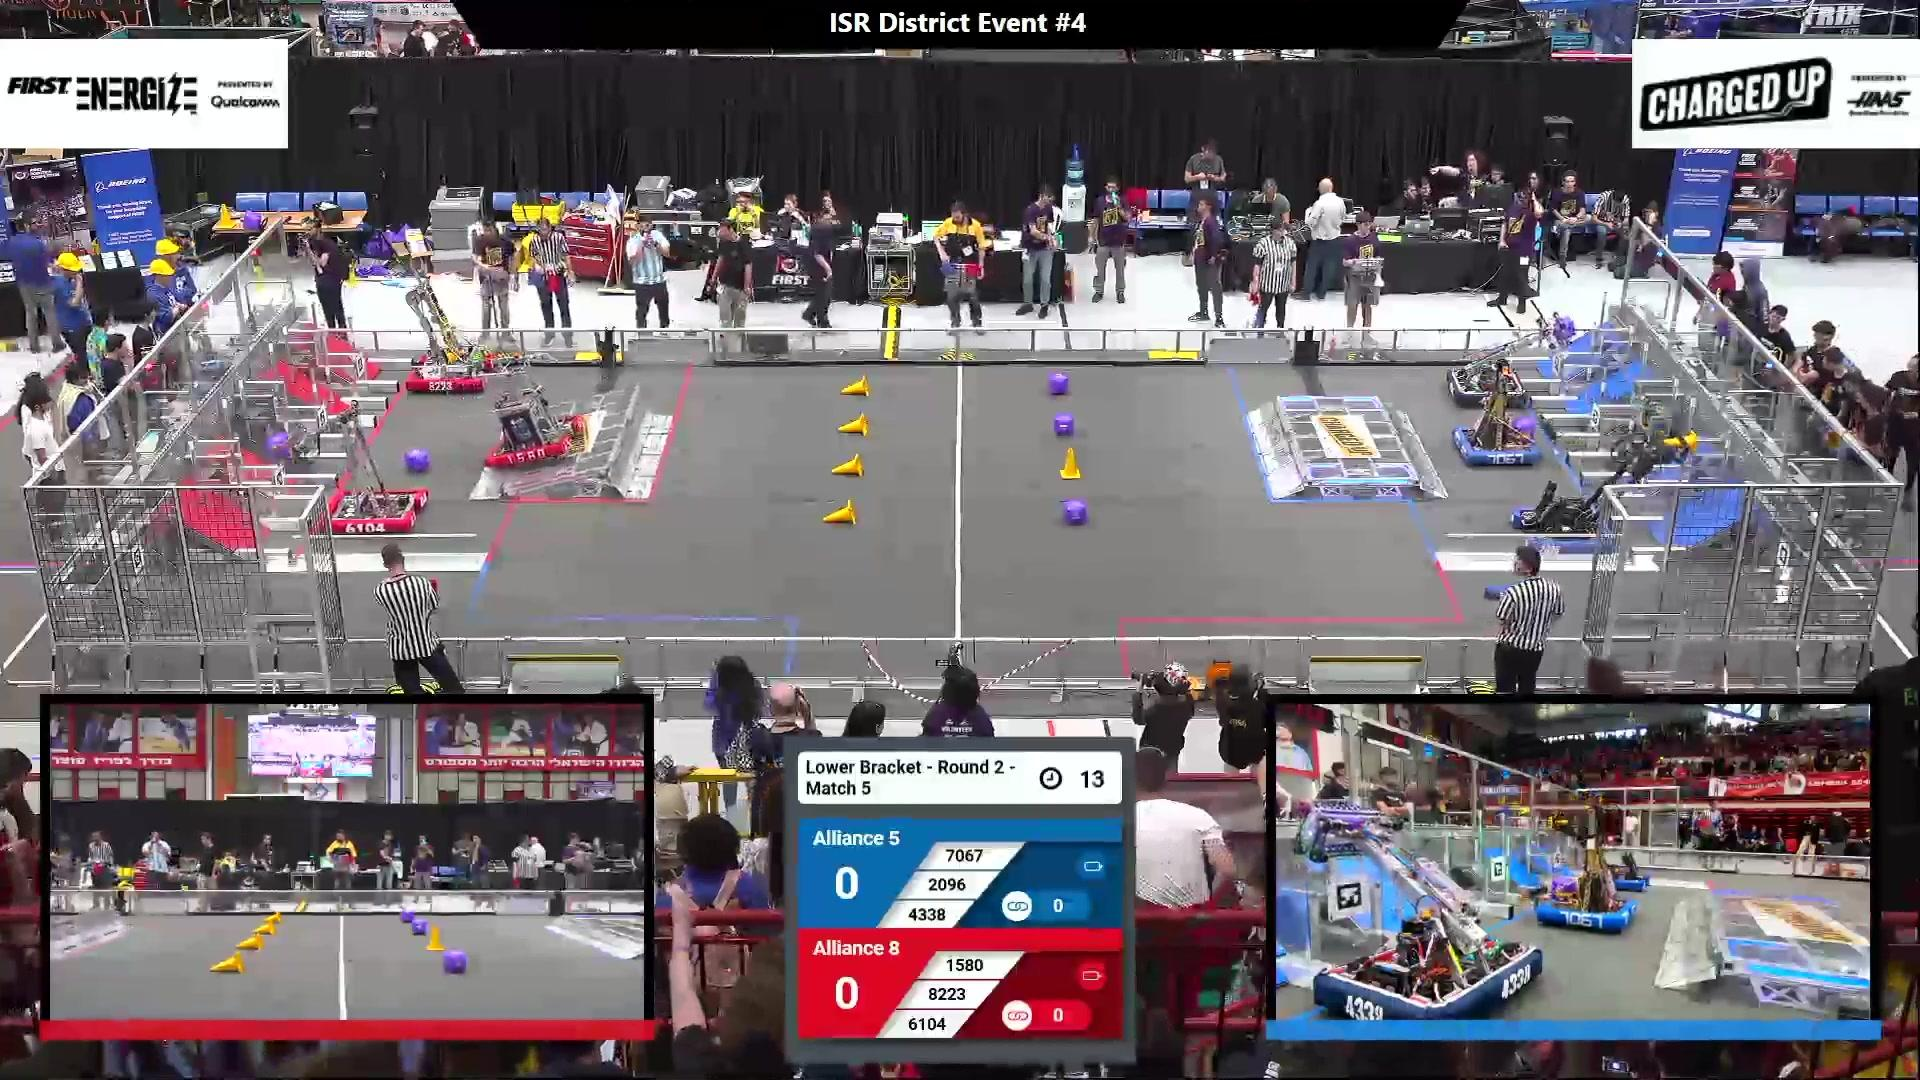robot: (1298, 798, 1544, 1021), (1510, 421, 1701, 556), (268, 405, 429, 535), (1534, 815, 1639, 934), (1447, 310, 1575, 406), (488, 348, 585, 467), (1452, 355, 1540, 469), (406, 276, 487, 394), (1593, 820, 1654, 890)
